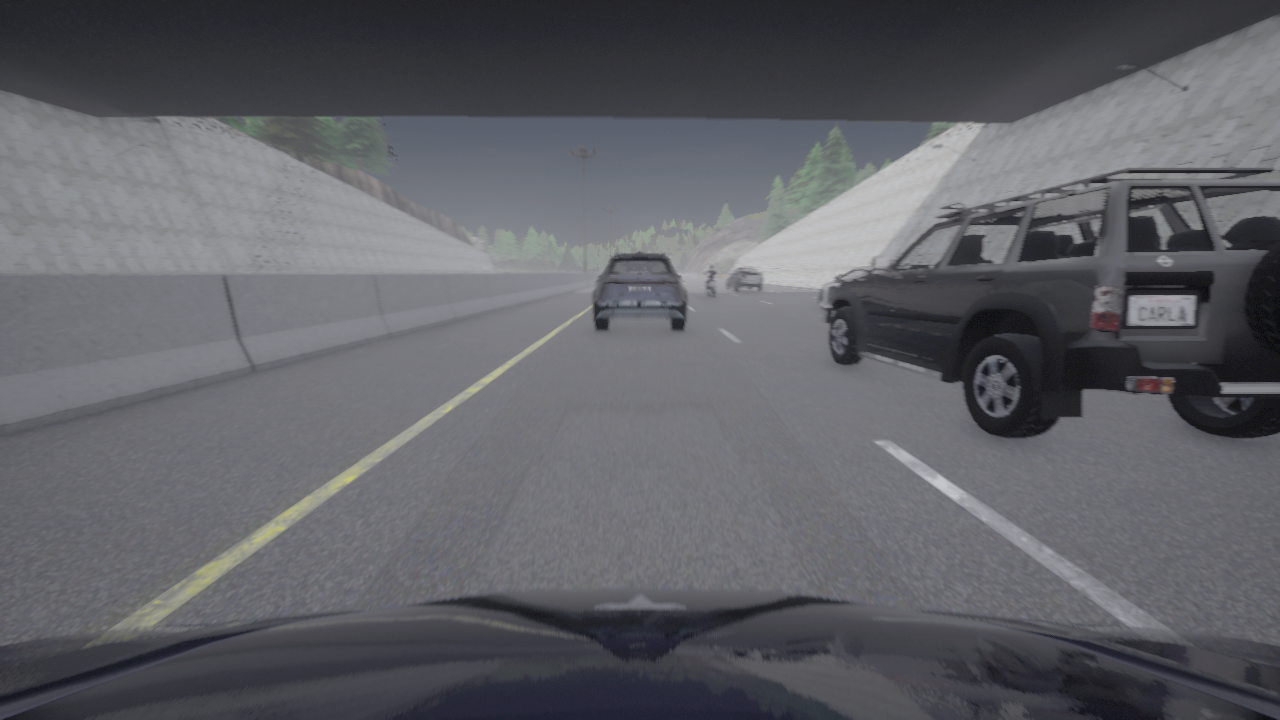cyclist: (0, 588, 1279, 719), (820, 167, 1279, 438), (593, 251, 686, 330), (818, 267, 883, 307), (725, 268, 762, 291), (705, 274, 716, 297)
